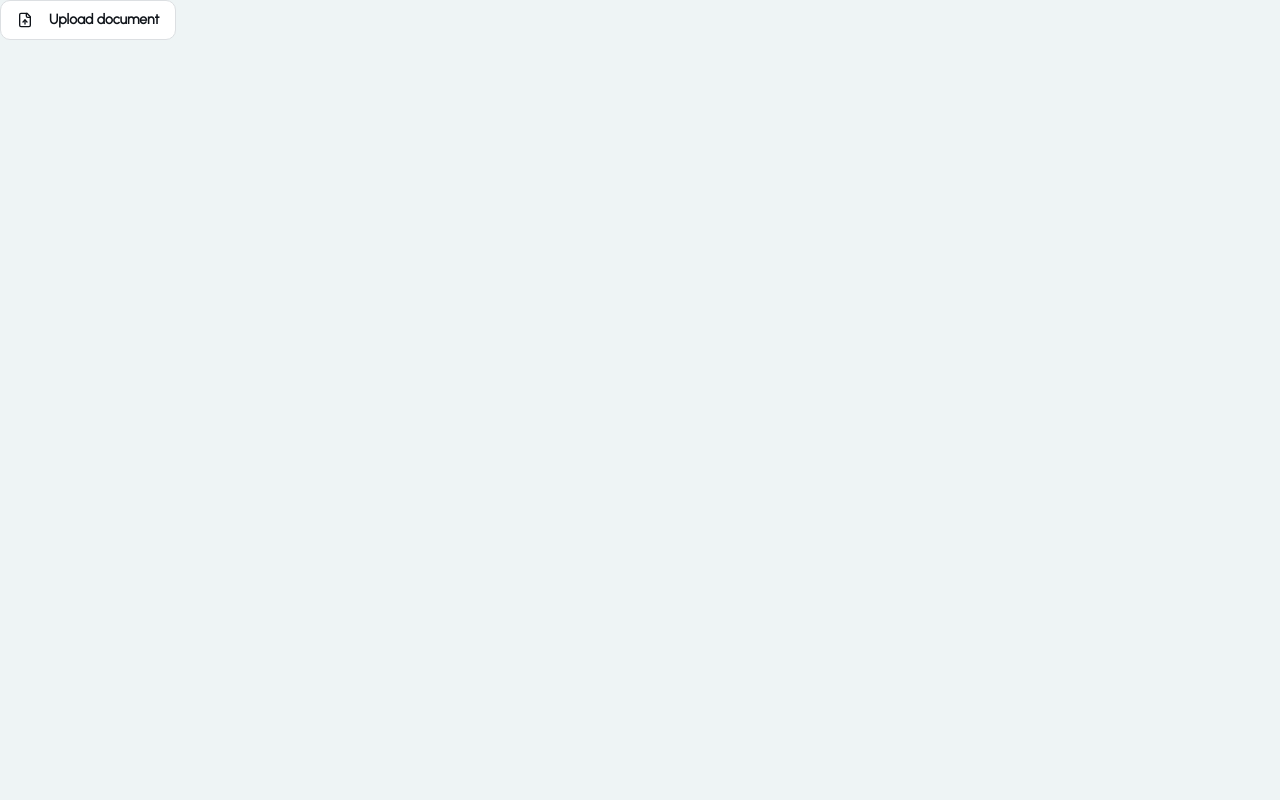
Test case: shows custom extracted values before Apply and resets replacement to fill-empty on each import
Later steps or results of the test are not shown.
Click the button "Upload document".
click(88, 20)  # box [0,0,176,40]
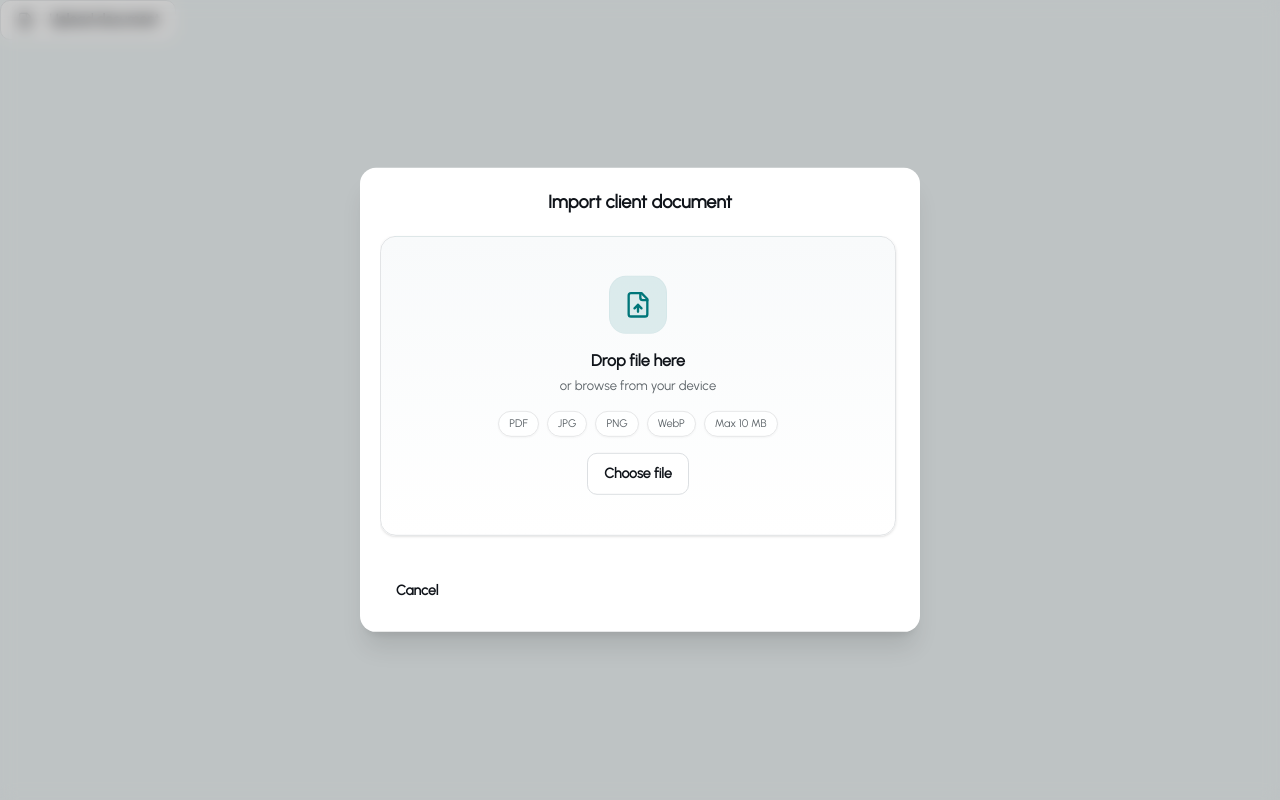
Expected: the file field is shown, [381,237,895,535]
